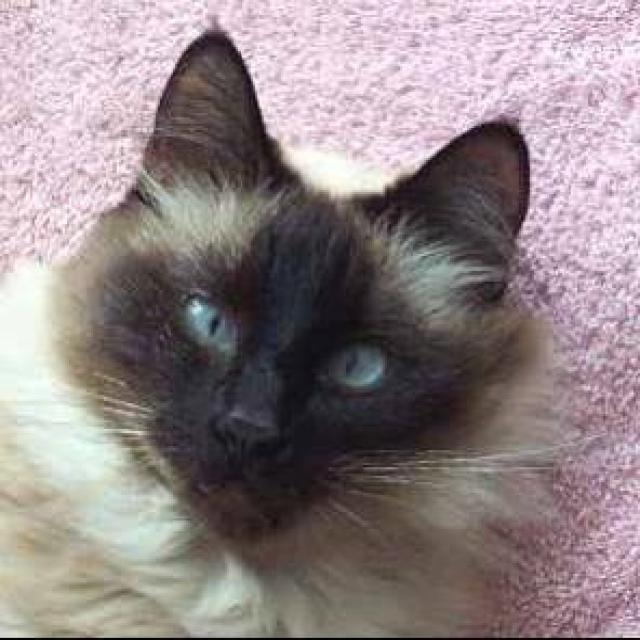Ragdoll: (44, 21, 568, 564)
